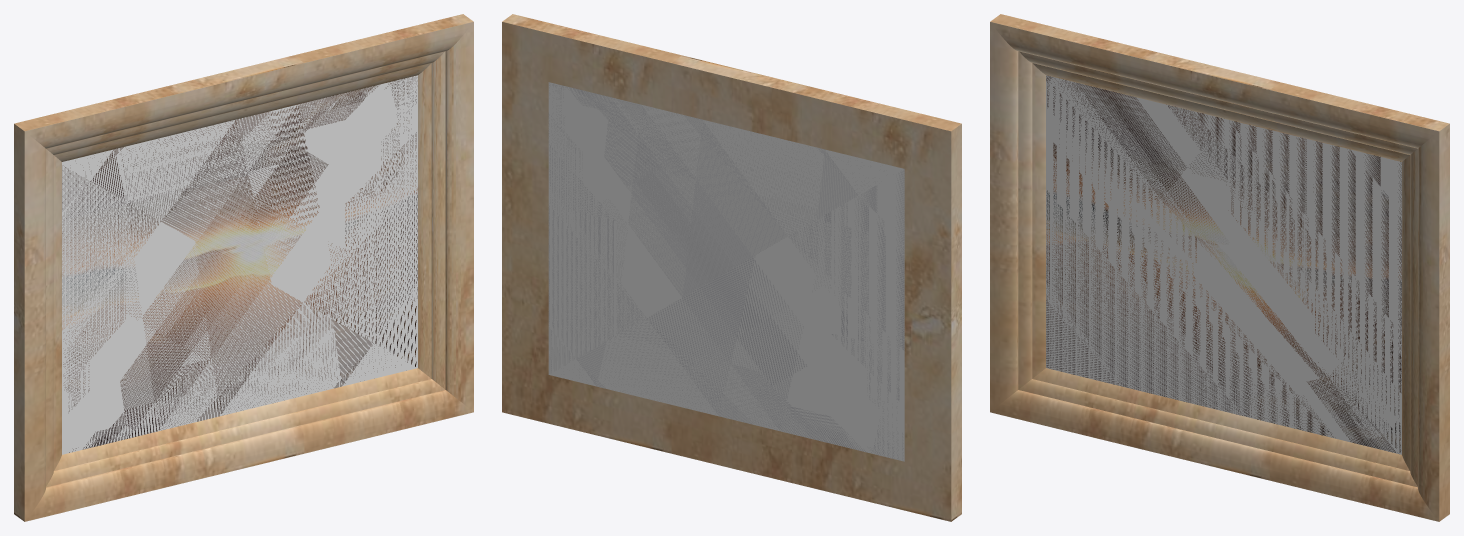
File: frame.dae
The picture shows the model from 3 angles, left to right: view 1: azimuth 30°, elevation 25°; view 2: azimuth 150°, elevation 25°; view 3: azimuth 330°, elevation 25°; orthographic projection.
Visible parts, largest first — view 1: group_2, group_0 (×2); view 2: group_1, group_0; view 3: group_2, group_0 (×2).
Boxes of the visible parts, left/top/right/bottom form: group_2: left=62, top=75, right=417, bottom=454; group_0 (×2): left=14, top=14, right=473, bottom=521; group_1: left=548, top=82, right=904, bottom=461; group_0: left=502, top=14, right=961, bottom=521; group_2: left=1046, top=75, right=1401, bottom=454; group_0 (×2): left=990, top=14, right=1449, bottom=521.
Bounding box in the file's own units: 65 × 2.67 × 54.
5 materials, 2 textured.
